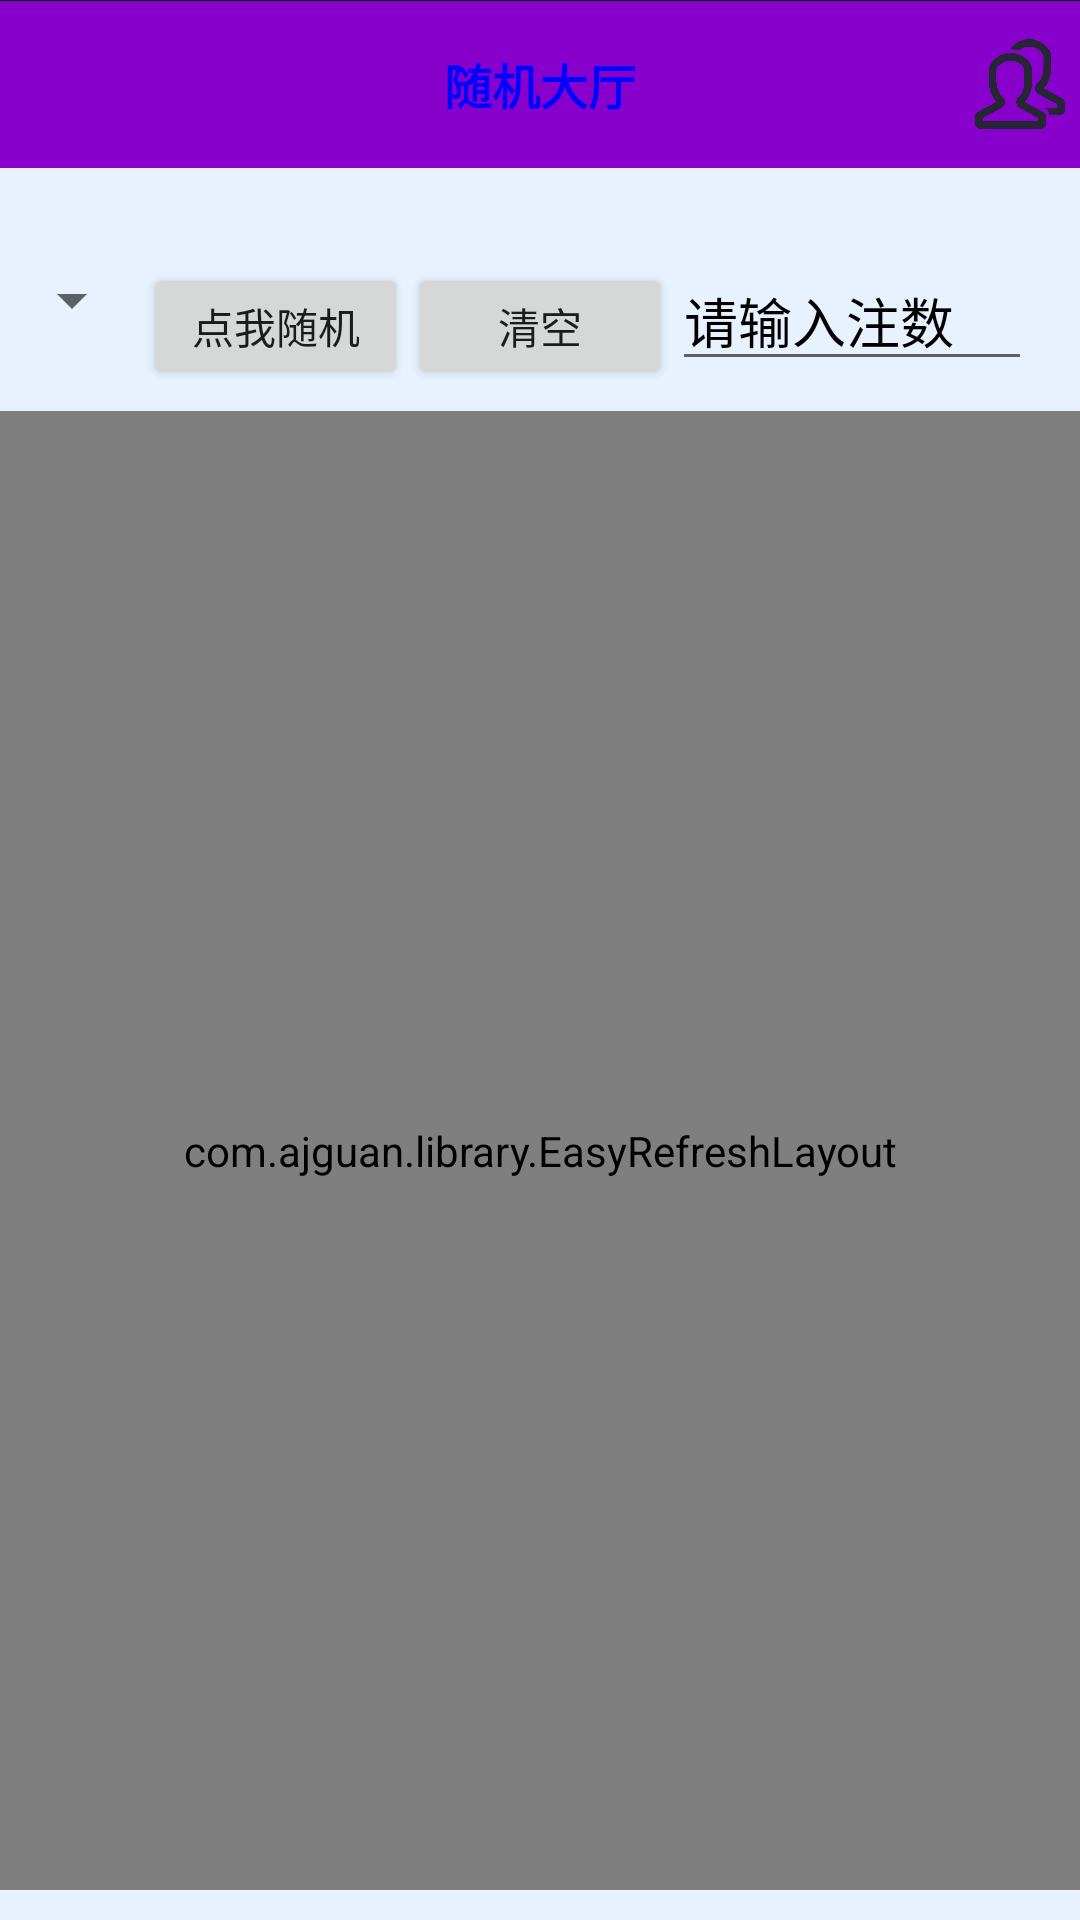

Named icons in this screenshot (1080x1920) and their centers, (x,y):
login: (1020,84)
